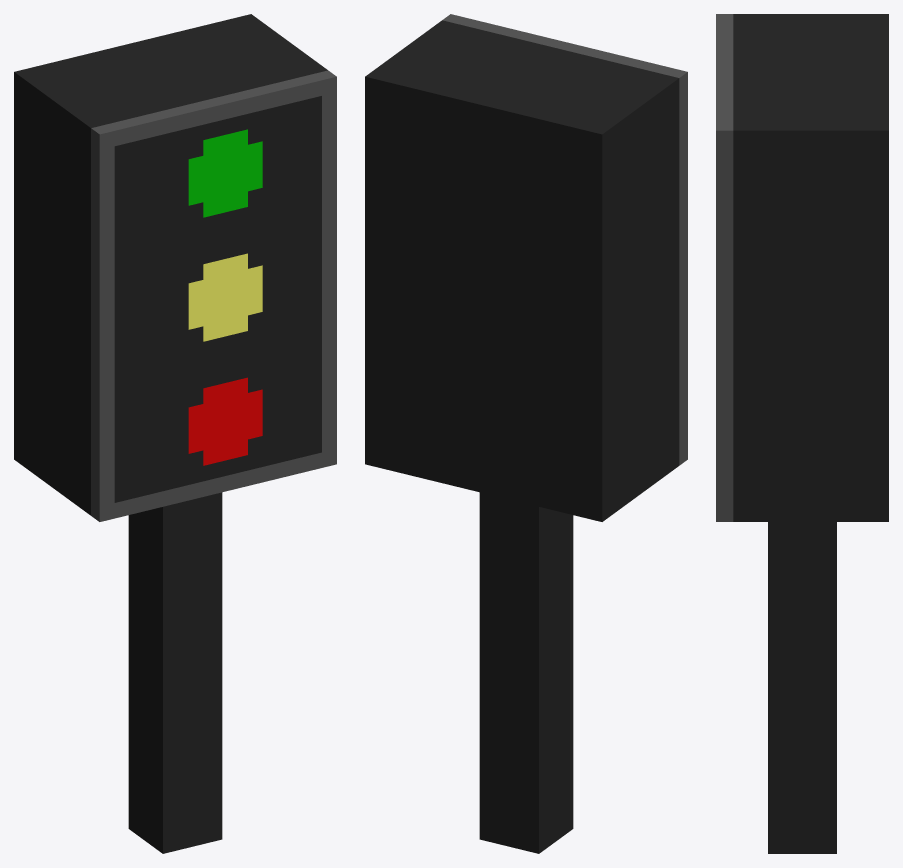
The model's file is semaforo.obj.
3 renders of one model, left to right at view 1: azimuth 30°, elevation 25°; view 2: azimuth 150°, elevation 25°; view 3: azimuth 270°, elevation 25°, orthographic.
Parts seen in each view (by area): view 1: semaforo; view 2: semaforo; view 3: semaforo.
Part boxes in pixels (<box>): semaforo: <box>14,14,336,853</box>; semaforo: <box>365,14,687,853</box>; semaforo: <box>716,14,888,853</box>.
Bounding box in the file's own units: 1.6 × 4.9 × 1.
